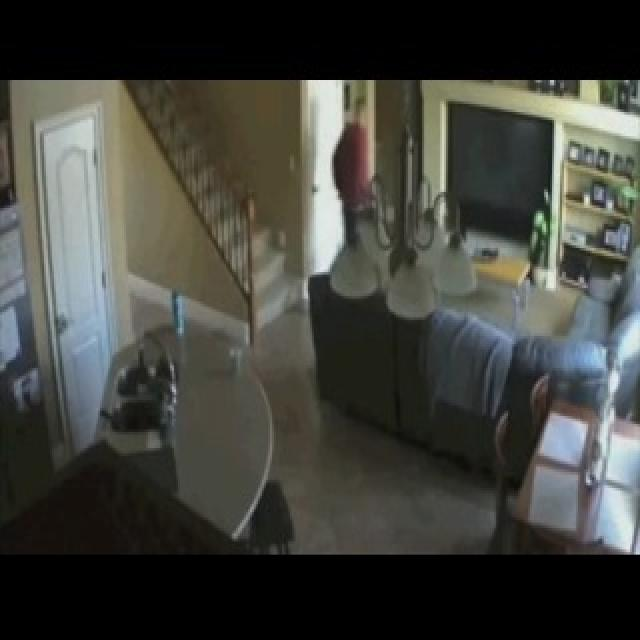thief: (334, 93, 387, 236)
